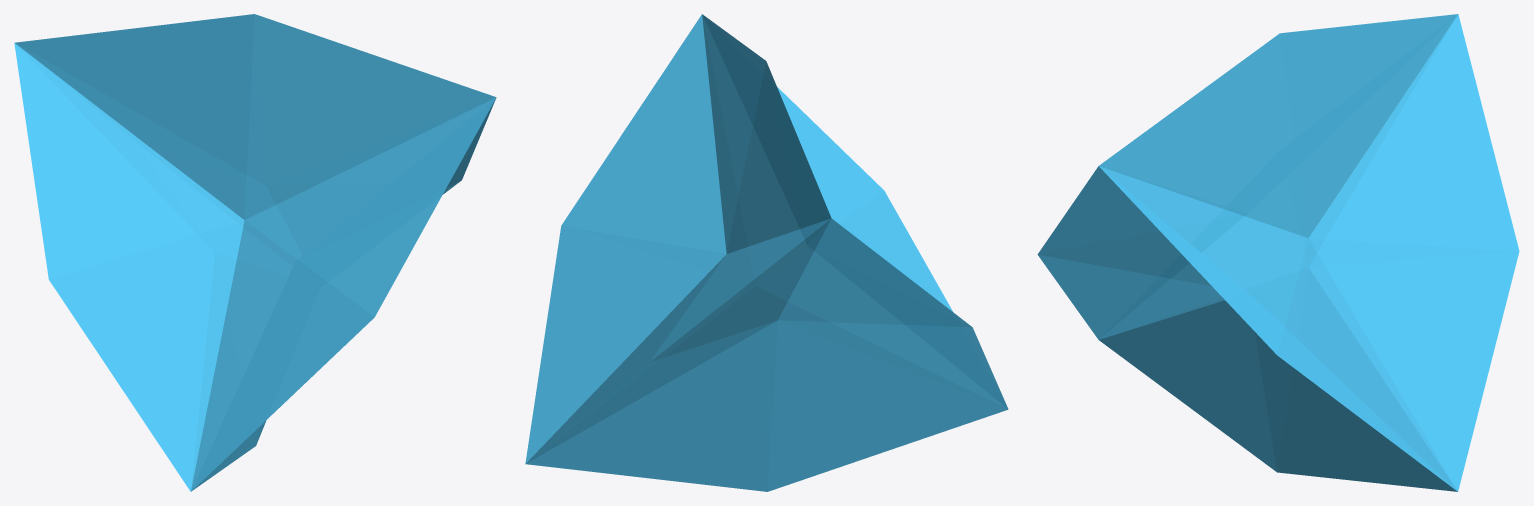
File: HexakisTetrahedron_n31.obj
3 renders of one model, left to right at view 1: azimuth 30°, elevation 25°; view 2: azimuth 150°, elevation 25°; view 3: azimuth 270°, elevation 25°, orthographic.
Size of the model in its own units: 9.9 by 9.9 by 9.85.
